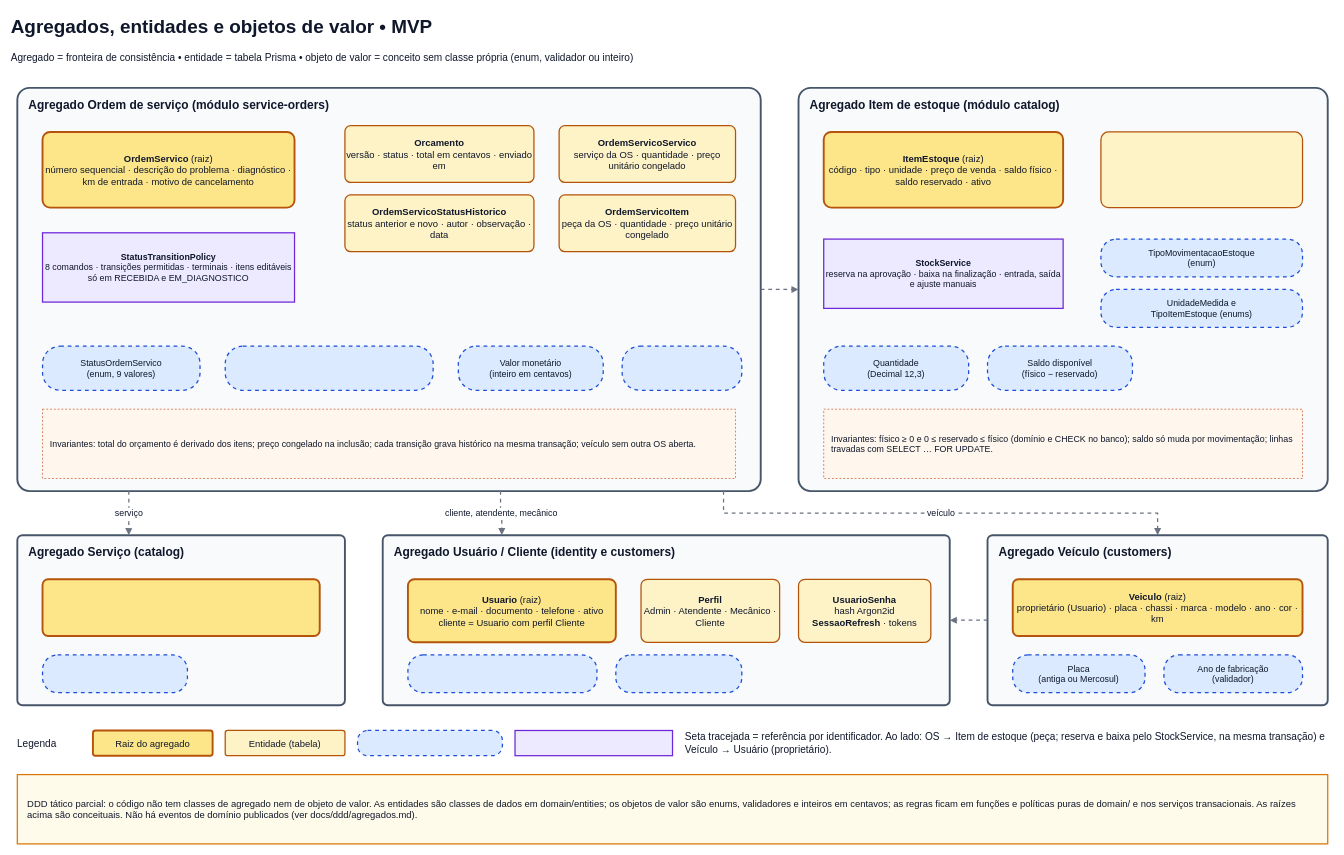
Some shapes in this 1344 by 855 pixel diagram are drawn without their labels. The shapes that lost their labels are listed below. From the top down, each one's centre as x and y in pixels, then its label:
point (1201, 169): MovimentacaoEstoque tipo · quantidade · motivo · OS (opcional)
point (328, 368): StatusOrcamento (enum: RASCUNHO, ENVIADO, APROVADO, REJEITADO)
point (681, 368): Número da OS (sequencial, texto)
point (180, 607): Servico (raiz) nome único · descrição · preço base · ativo
point (115, 673): Preço base (inteiro em centavos)
point (502, 673): Documento CPF/CNPJ (validador, dígitos verificadores)
point (678, 673): E-mail único (inclusive inativo)
point (430, 743): Objeto de valor (conceito)
point (593, 743): Política / serviço de domínio
